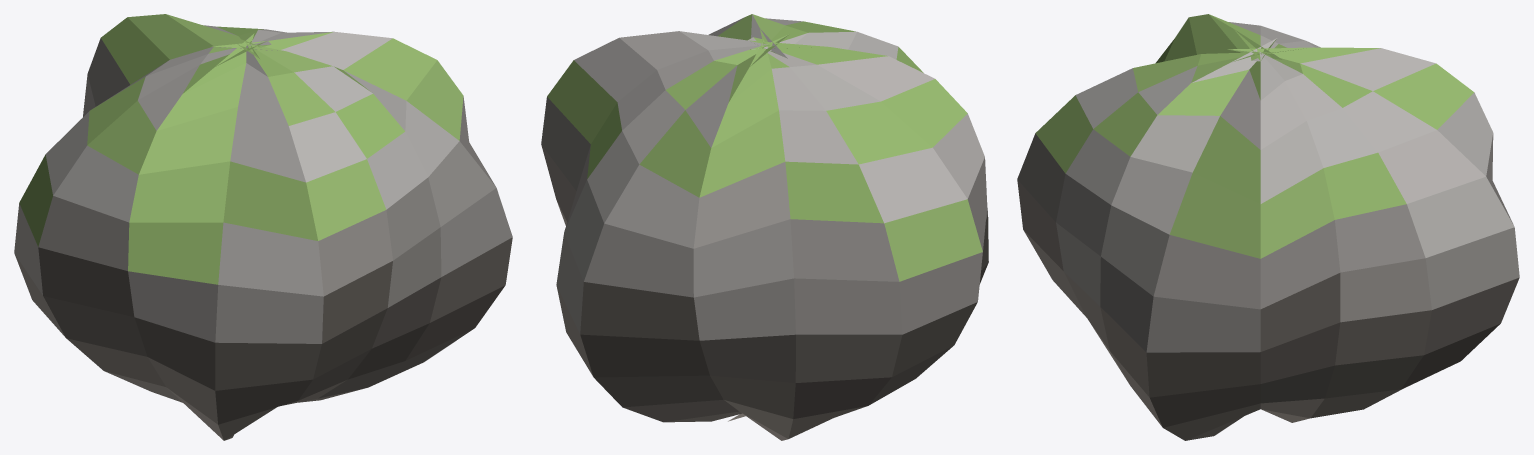
The model's file is Moss_Stone.glb.
The picture shows the model from 3 angles, left to right: view 1: azimuth 30°, elevation 25°; view 2: azimuth 150°, elevation 25°; view 3: azimuth 270°, elevation 25°; orthographic projection. The views are drawn at different scales.
Parts seen in each view (by area): view 1: MossStone; view 2: MossStone; view 3: MossStone.
Part boxes in pixels (x1,y1,x2,y2): MossStone: (14,14,512,440); MossStone: (541,14,988,440); MossStone: (1017,14,1519,440).
Size of the model in its own units: 0.4813 by 0.374 by 0.4869.
